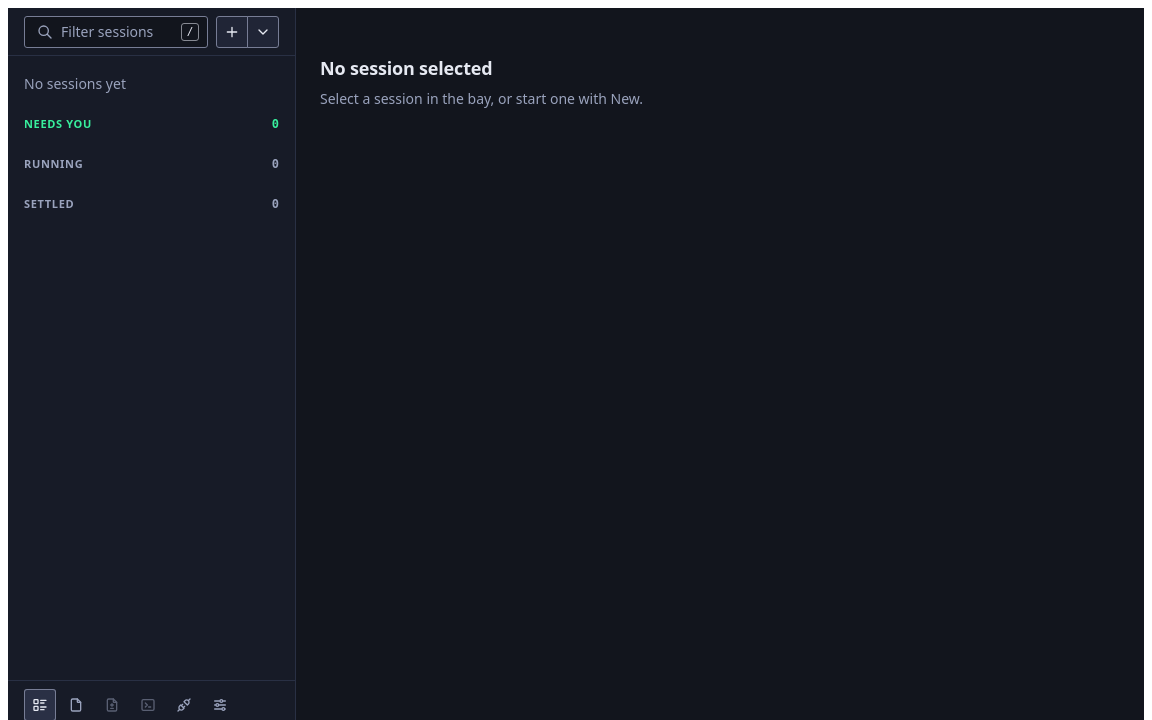
Test: explains a failed start and retries it
Click the button named "New" at [232, 32], box x1=216 y1=16 x2=248 y2=48
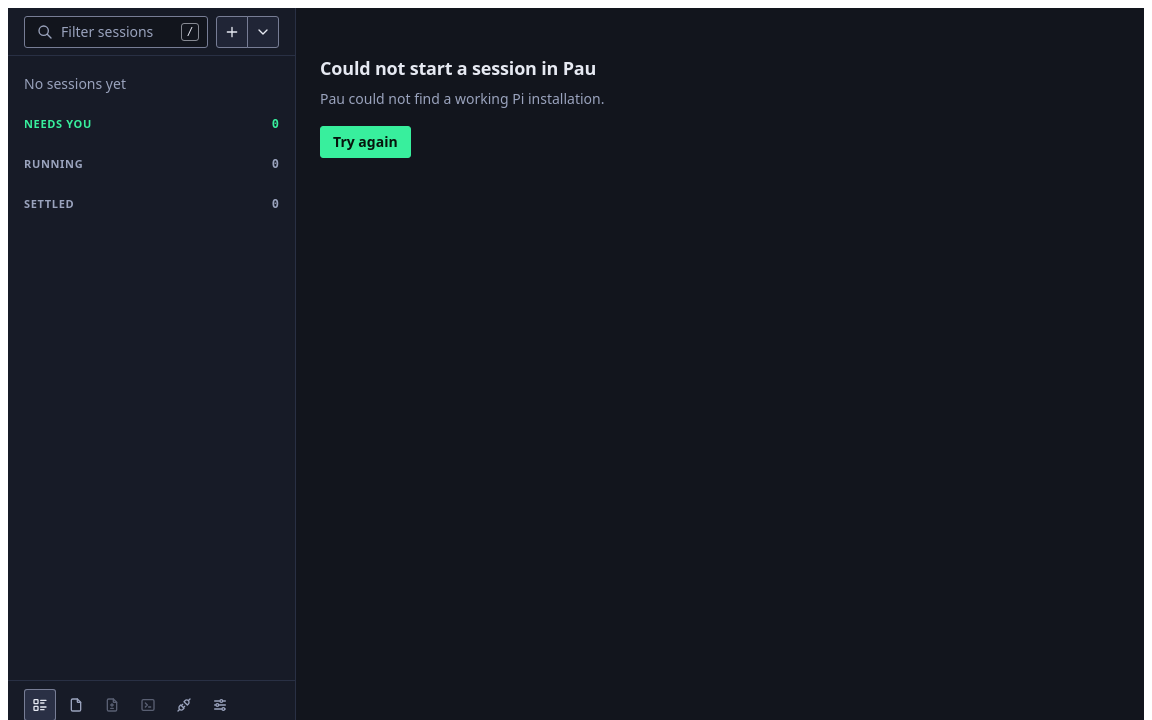
Check: the message shows "Pau could not find a working Pi installation.", box x1=320 y1=89 x2=604 y2=108
Click the button "Try again" at [365, 142], box x1=320 y1=126 x2=411 y2=158
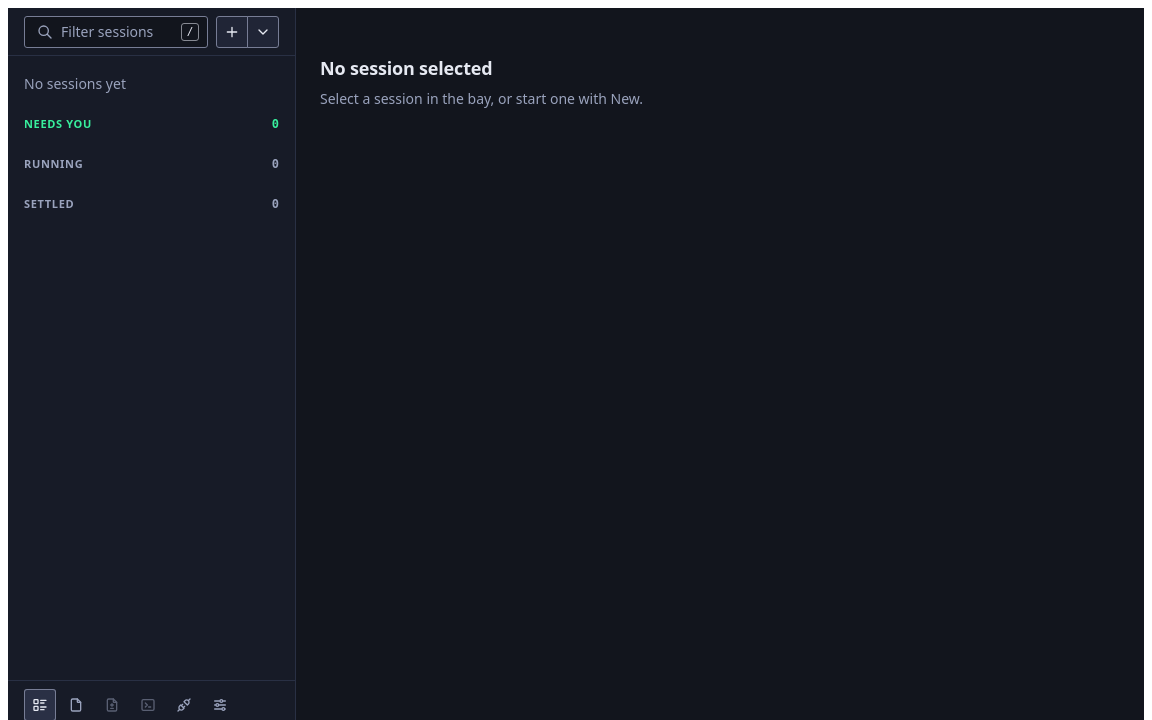
Check: the heading "No session selected" is shown, box x1=320 y1=56 x2=492 y2=80
